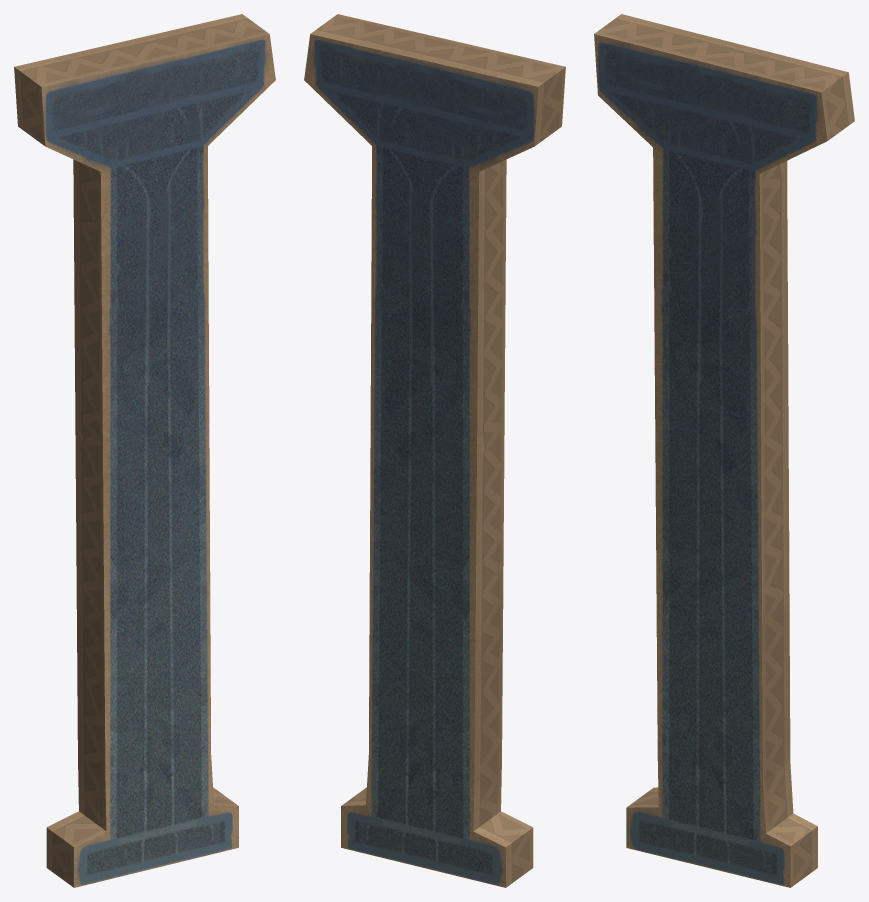
File: SM_Pillar_03.fbx
3 renders of one model, left to right at view 1: azimuth 30°, elevation 25°; view 2: azimuth 150°, elevation 25°; view 3: azimuth 330°, elevation 25°, orthographic.
Parts seen in each view (by area): view 1: Pillar001; view 2: Pillar001; view 3: Pillar001.
Part boxes in pixels (x1=…): Pillar001: x1=14, y1=14, x2=275, y2=887; Pillar001: x1=304, y1=14, x2=565, y2=887; Pillar001: x1=594, y1=14, x2=854, y2=887.
Size of the model in its own units: 207 by 682 by 42.03.
